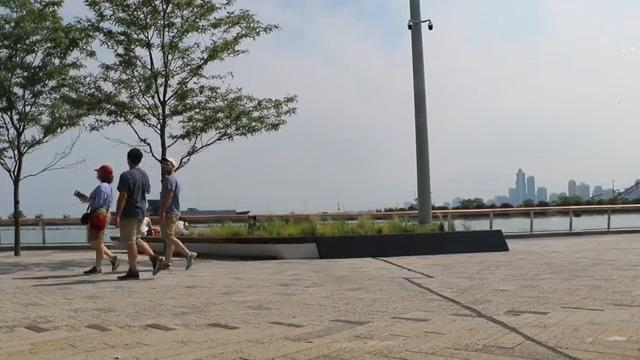no-helmet: (95, 164, 114, 184), (127, 148, 143, 167), (162, 157, 177, 176)
